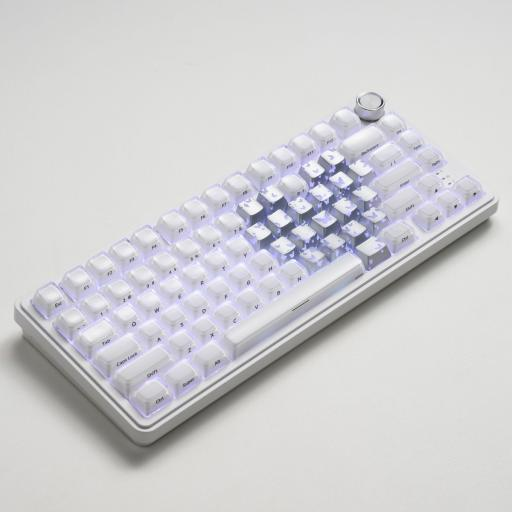keyboard: (15, 108, 497, 444)
